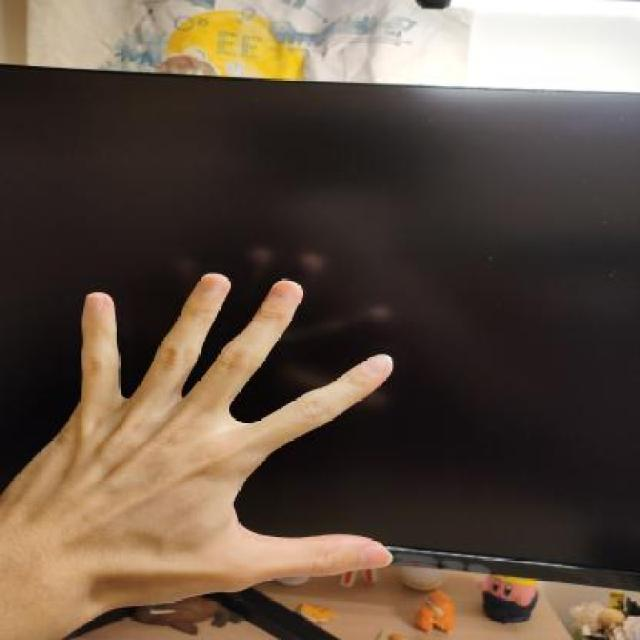bare_hand: (2, 255, 407, 640)
